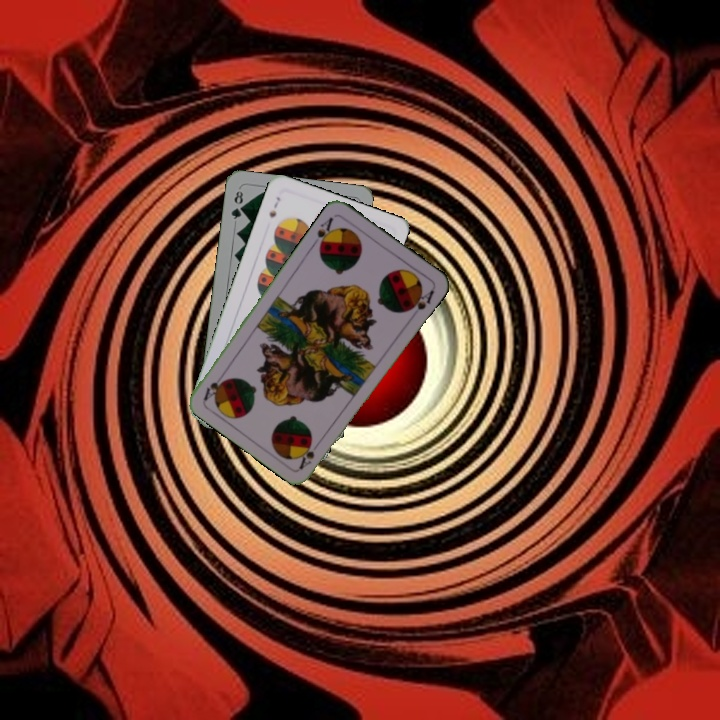G8: (227, 187, 246, 222)
S7: (265, 193, 283, 220)
SA: (309, 213, 338, 252), (295, 438, 317, 472)
